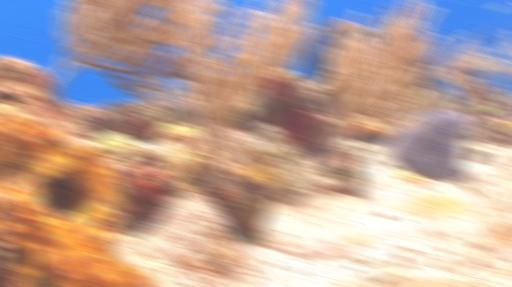Fish: (474, 28, 503, 43), (488, 3, 509, 11), (495, 122, 511, 131), (478, 108, 499, 114)
